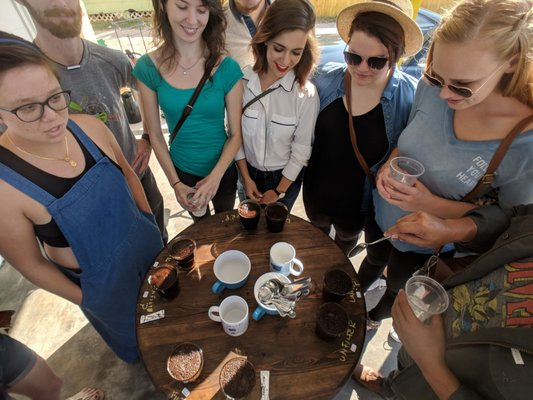pizza: (219, 295, 250, 336), (270, 242, 296, 274), (265, 202, 288, 232), (238, 201, 260, 231)
sushi: (212, 250, 251, 290)
